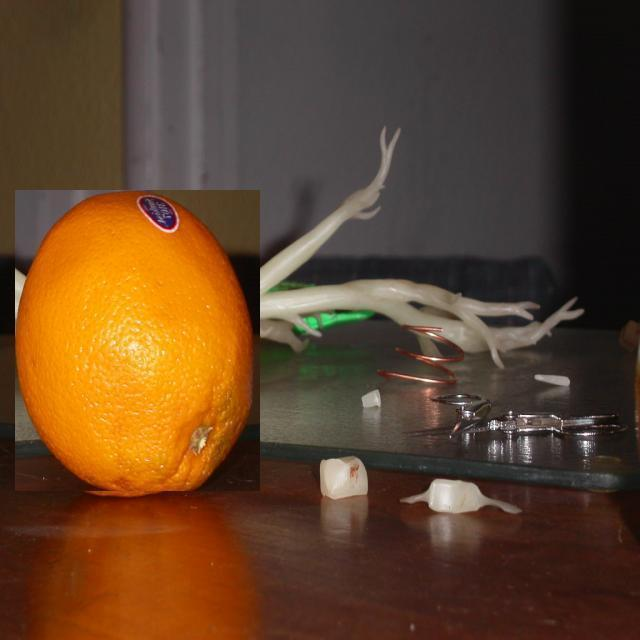Orange: (15, 190, 260, 491)
